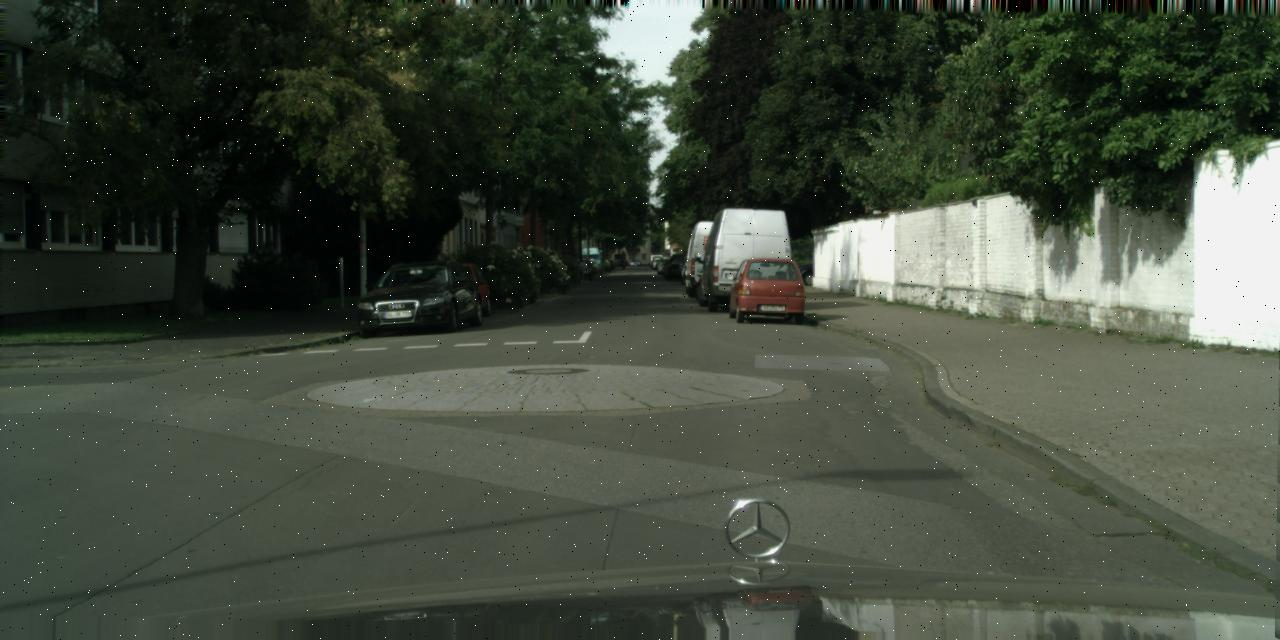ped: (620, 251, 626, 266)
